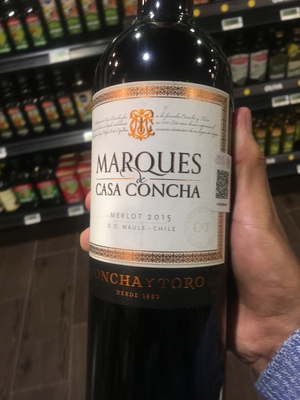marques de casa concha merlot: (71, 12, 232, 359)
